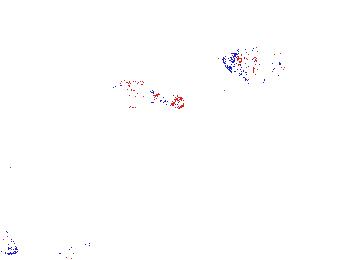X-ray fish: (220, 45, 289, 86)
redtail glassfish: (108, 75, 188, 111), (10, 241, 98, 260)
